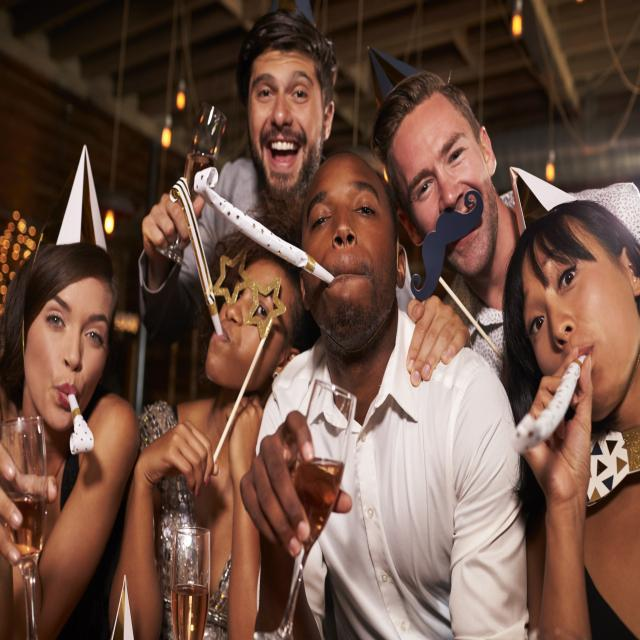body: (238, 148, 530, 640), (366, 67, 640, 389), (108, 213, 314, 640), (0, 143, 141, 640), (137, 19, 339, 340), (497, 191, 640, 640)
